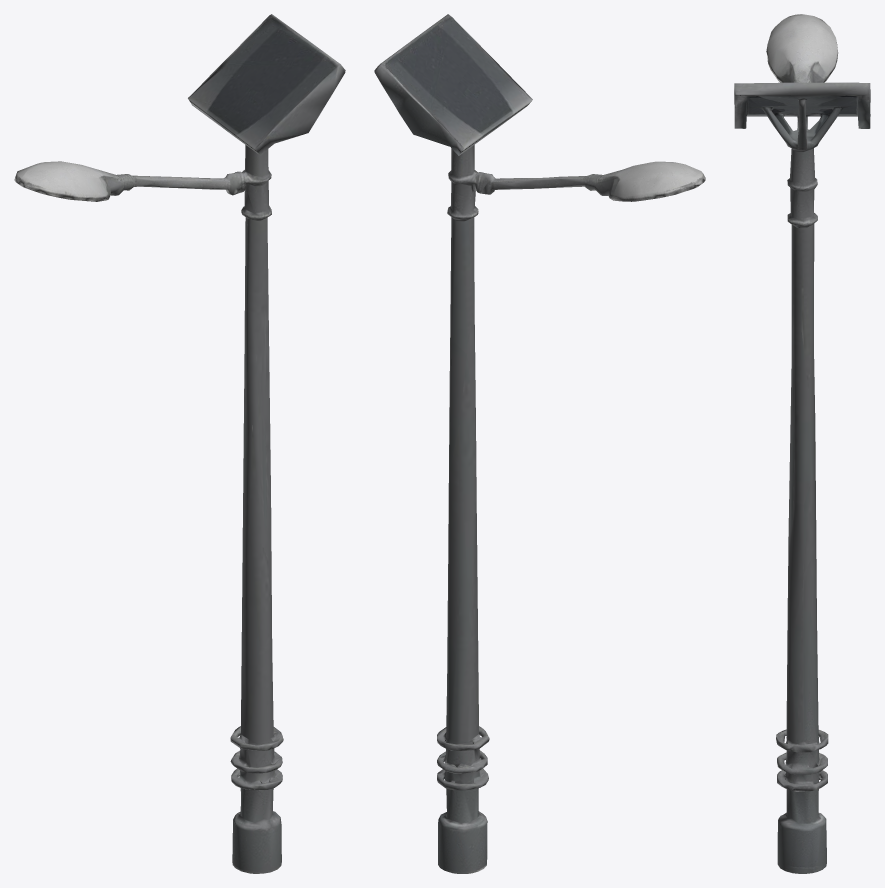
The model's file is streetlight.glb.
3 views of the same model, side by side, from view 1: azimuth 30°, elevation 25°; view 2: azimuth 150°, elevation 25°; view 3: azimuth 270°, elevation 25° (orthographic).
Bounding box in the file's own units: 0.7192 × 1.9 × 0.2917.
1 material, 1 textured.
